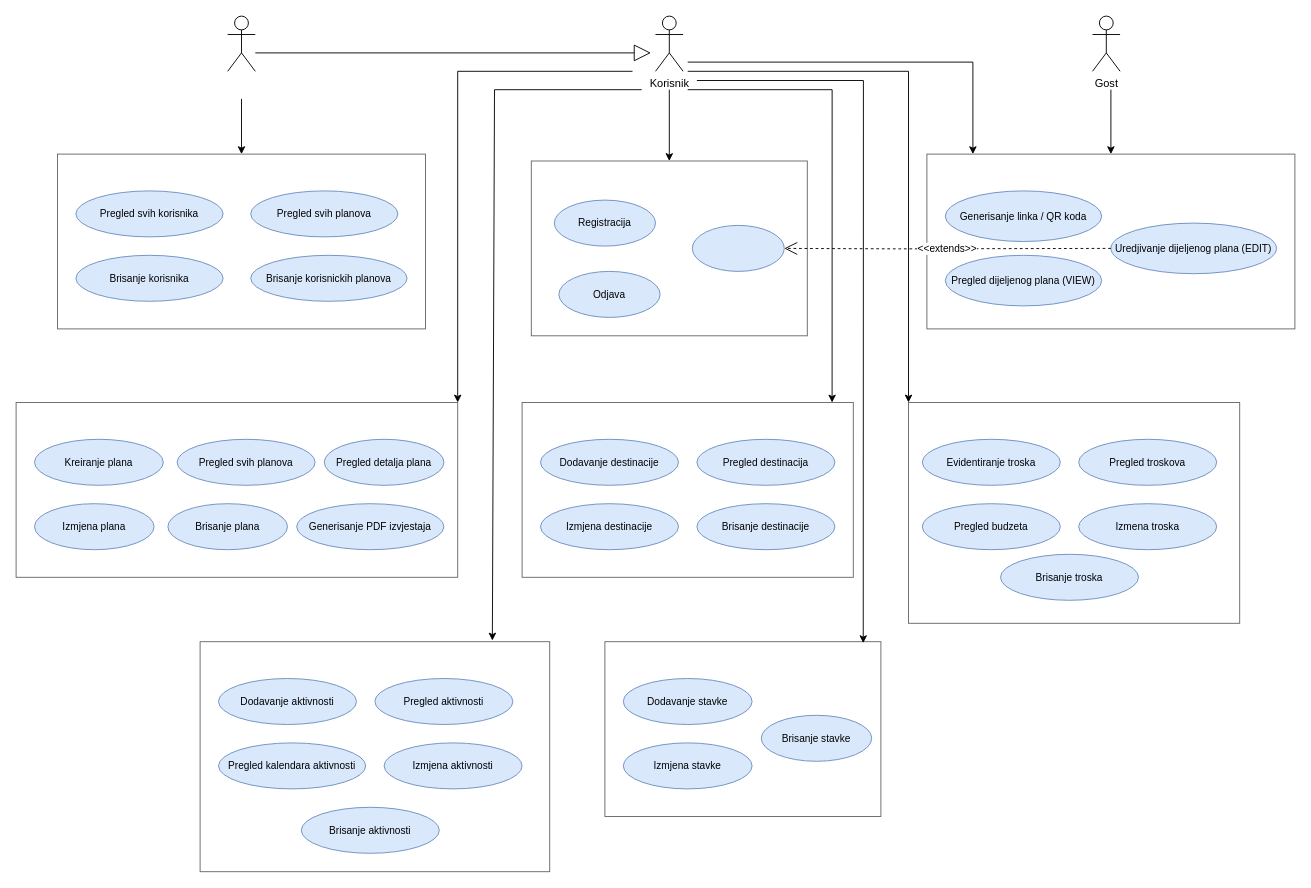
Some shapes in this 1311 by 888 pixel diagram are drawn without their labels. The box of each missing label's shape, as (x1, y1, x2, y2) in pixels:
Admin: (227, 15, 255, 71)
Administracija: (57, 153, 426, 329)
Autentifikacija: (530, 160, 807, 336)
Checklist: (604, 641, 881, 816)
Dijeljenje plana putovanja: (926, 153, 1295, 329)
Evidencija troskova i budzet: (908, 402, 1240, 623)
Organizacija aktivnosti: (199, 641, 550, 872)
Prijava: (691, 224, 784, 271)
Upravljanje destinacijama: (521, 402, 853, 577)
Upravljanje planom putovanja: (15, 402, 458, 577)
